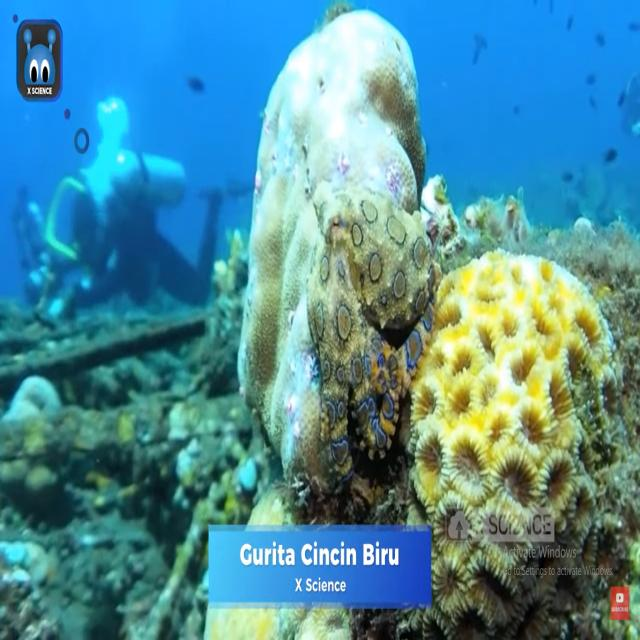blue_ringed_octopus: (306, 181, 435, 480)
